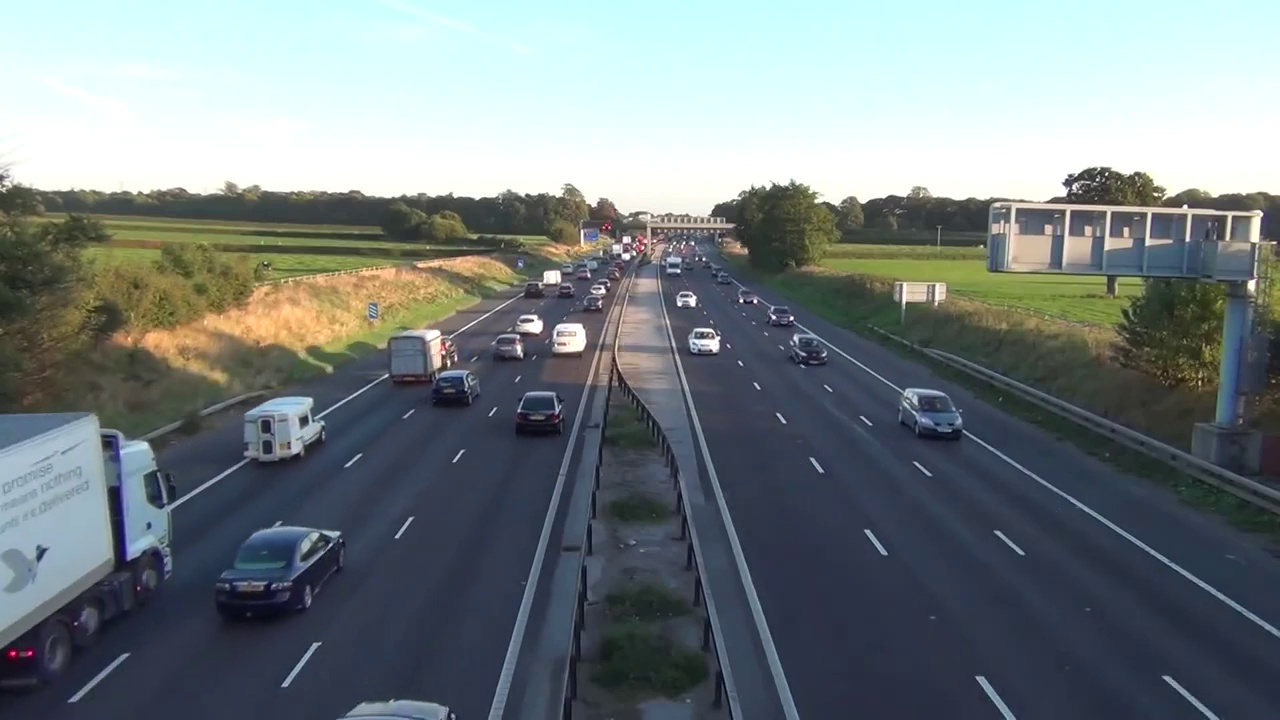bus: (215, 527, 346, 626), (242, 396, 327, 461), (388, 329, 458, 382), (898, 386, 964, 442), (514, 391, 565, 434), (429, 370, 481, 406), (788, 333, 828, 366), (551, 323, 586, 354), (687, 327, 721, 356), (492, 334, 523, 361), (767, 305, 795, 328), (514, 315, 545, 333), (675, 291, 699, 308), (738, 287, 758, 305)
car: (0, 413, 176, 700)
